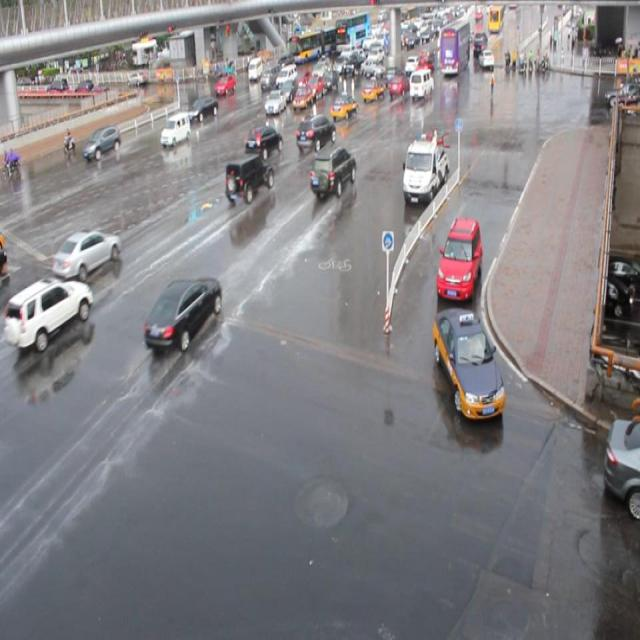bus: (401, 133, 447, 202)
car: (432, 306, 503, 419), (1, 277, 93, 351), (144, 275, 222, 351), (435, 217, 482, 299), (52, 228, 122, 280), (309, 144, 356, 197), (225, 153, 274, 201), (296, 112, 335, 152), (243, 122, 282, 160), (82, 125, 122, 159), (329, 91, 357, 120), (187, 95, 218, 121), (361, 77, 385, 101), (264, 90, 286, 114), (292, 84, 312, 110), (387, 74, 408, 97), (215, 72, 235, 95), (306, 74, 324, 98), (279, 78, 297, 101), (293, 69, 310, 91)
truck: (160, 111, 190, 144), (408, 68, 433, 99), (260, 64, 281, 89)
